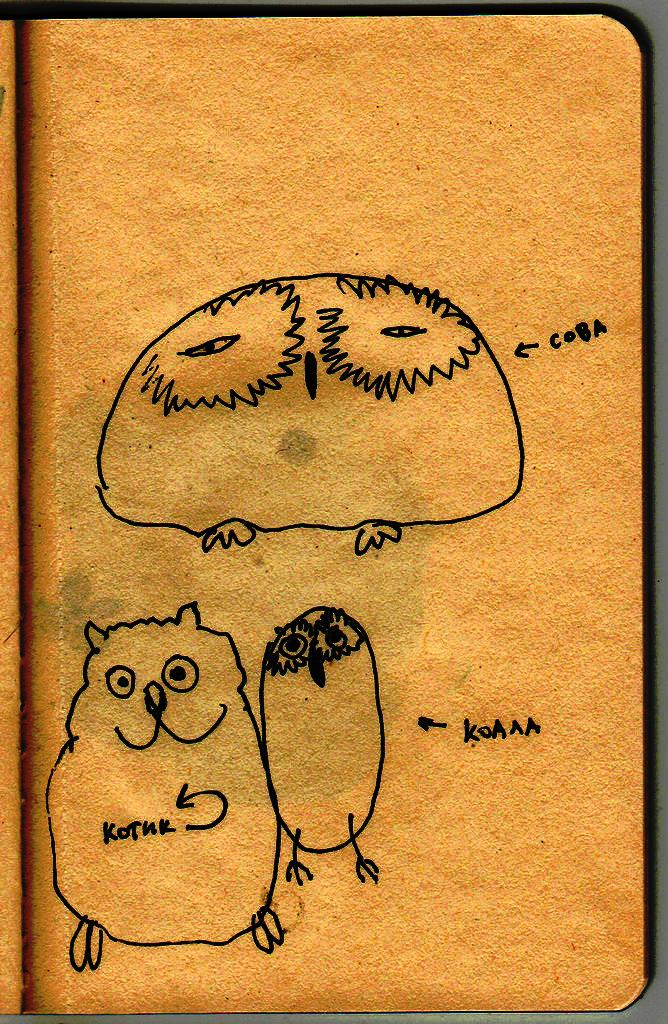Owl: (94, 269, 524, 549), (42, 594, 280, 976), (256, 607, 387, 886)
